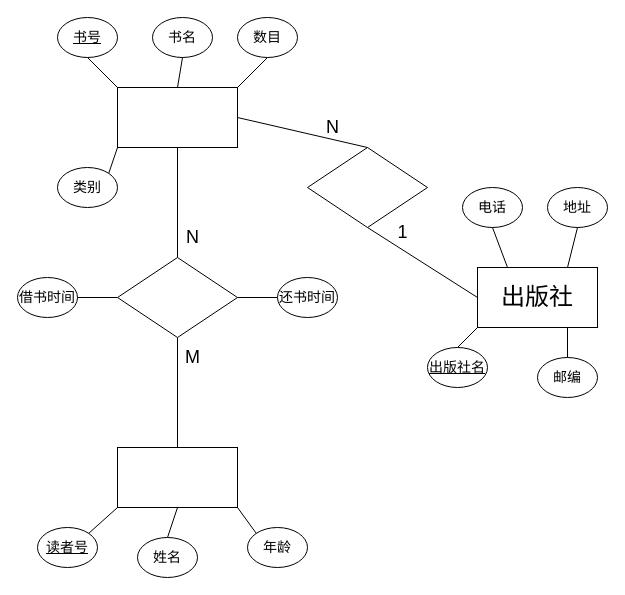
Some shapes in this 625 by 595 pixel diagram are drawn without their labels. The box of each missing label's shape, as (x1, y1, x2, y2) in pixels:
借阅: (116, 256, 238, 338)
出版: (306, 146, 428, 228)
图书: (116, 86, 238, 148)
读者: (116, 446, 238, 508)
